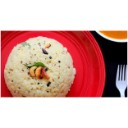venpongal: (9, 36, 76, 94)
